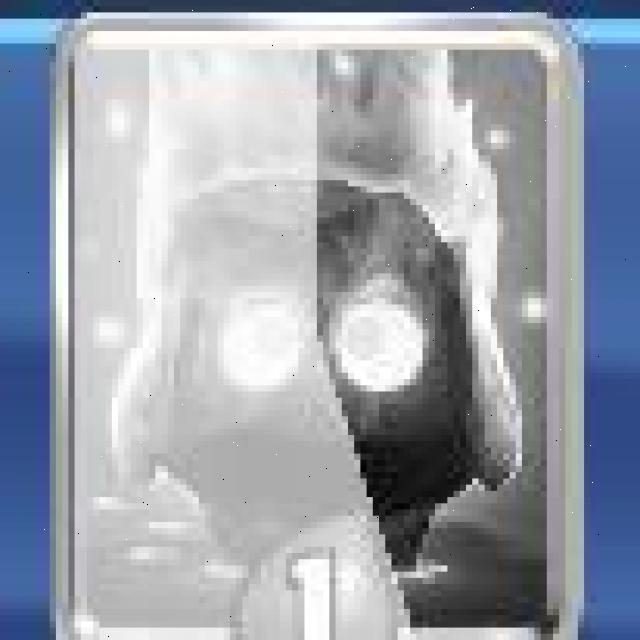Fire_Spirit: (51, 12, 587, 640)
